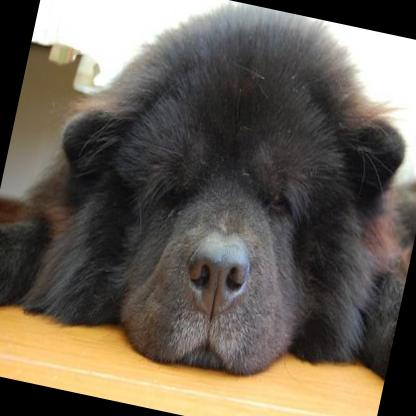chow: (0, 0, 416, 408)
